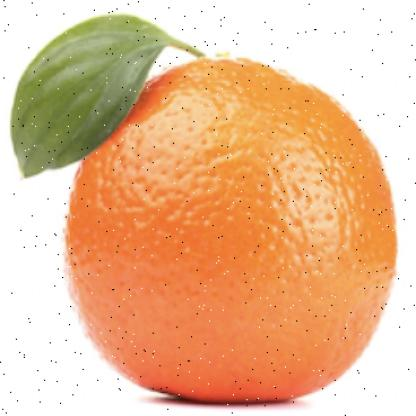orange: (20, 44, 400, 411)
